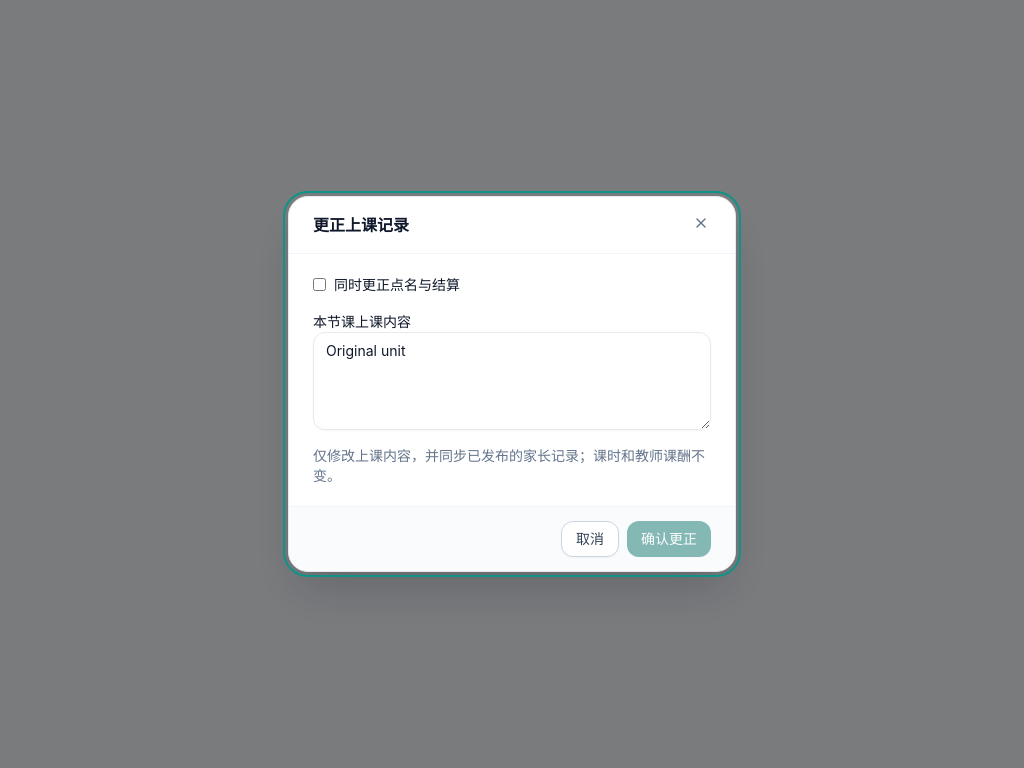
Scenario: failed preview cannot submit a financial correction
Click the checkbox labelled "同时更正点名与结算": [320, 284] box left=313, top=278, right=326, bottom=291
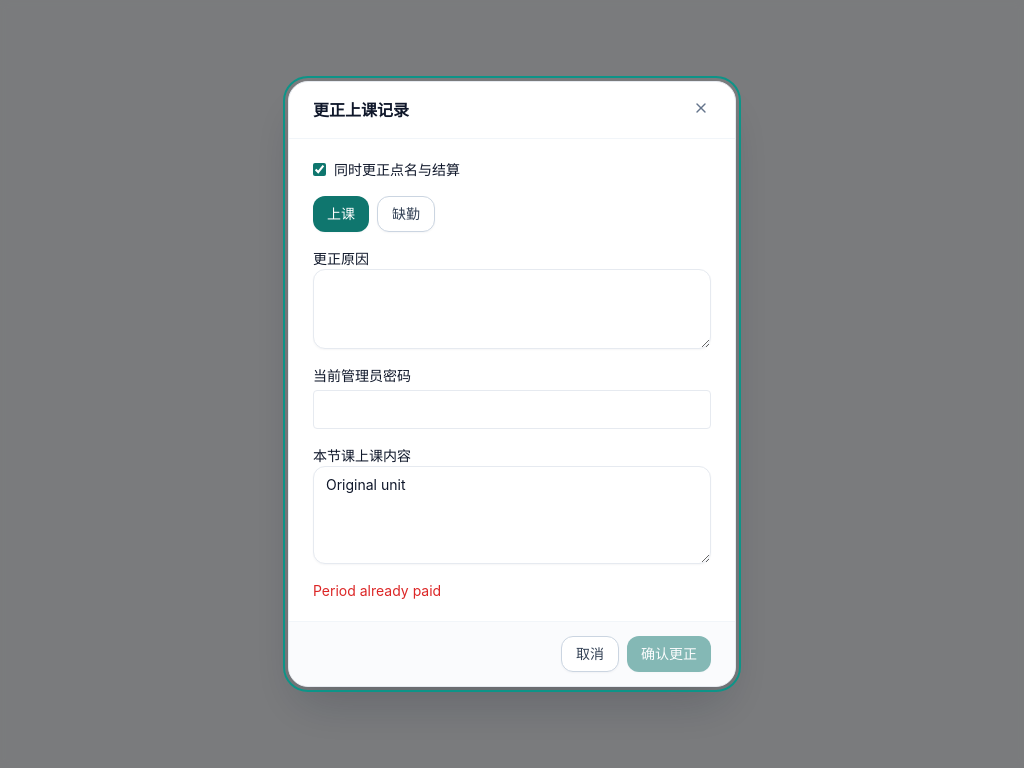
Check: the button "确认更正" is disabled, box left=627, top=636, right=711, bottom=672
Check: the message reads "Period already paid", box left=313, top=582, right=441, bottom=599
